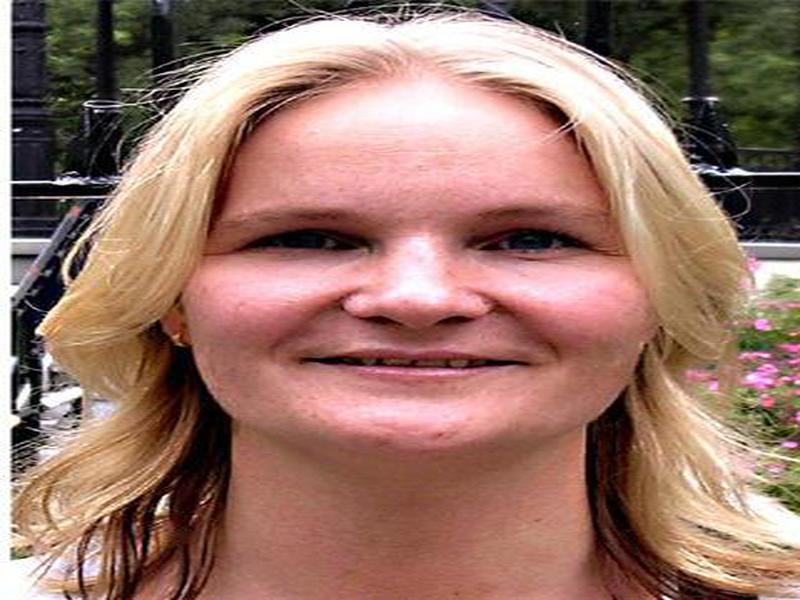without_mask: (191, 150, 644, 457)
